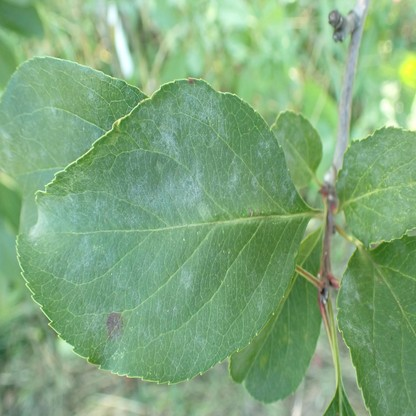powdery_mildew: (0, 57, 139, 176), (36, 163, 203, 232), (339, 127, 416, 248), (137, 84, 227, 161), (366, 359, 396, 416), (66, 236, 112, 272), (273, 116, 301, 165), (341, 316, 373, 352), (266, 170, 295, 202), (212, 164, 239, 198), (114, 267, 139, 302), (341, 271, 360, 311), (84, 305, 101, 335), (252, 285, 263, 315), (181, 268, 194, 290), (257, 142, 271, 158), (387, 315, 400, 329), (194, 333, 204, 348), (155, 300, 162, 314), (251, 175, 258, 186), (368, 301, 373, 310)
